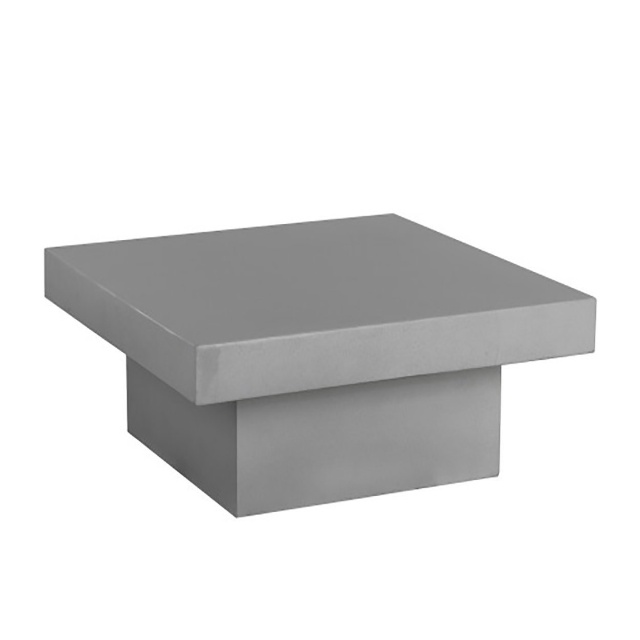obstacle: (45, 214, 595, 516)
